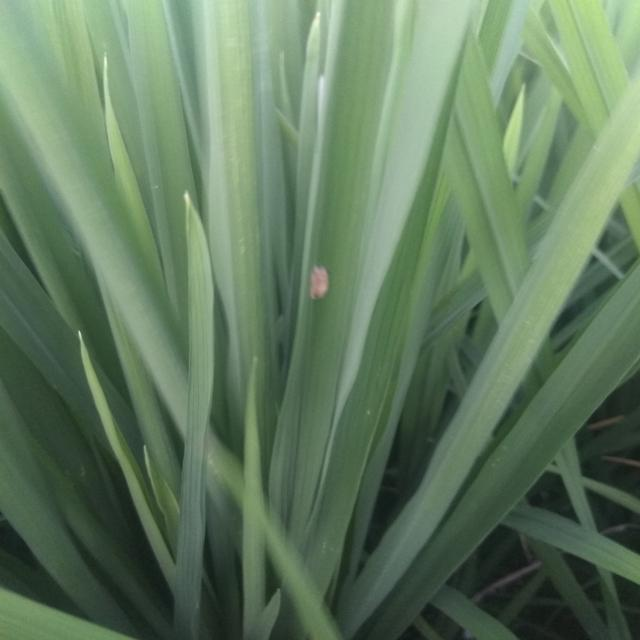healthy: (290, 263, 335, 314)
